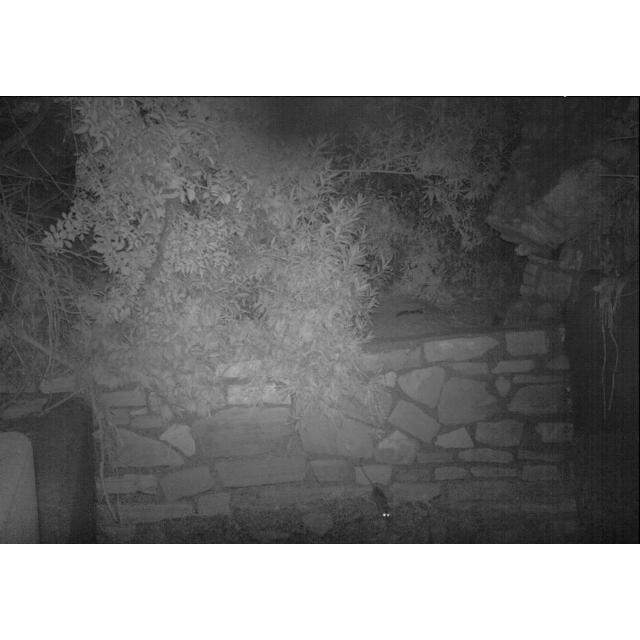animals: (357, 452, 397, 526)
